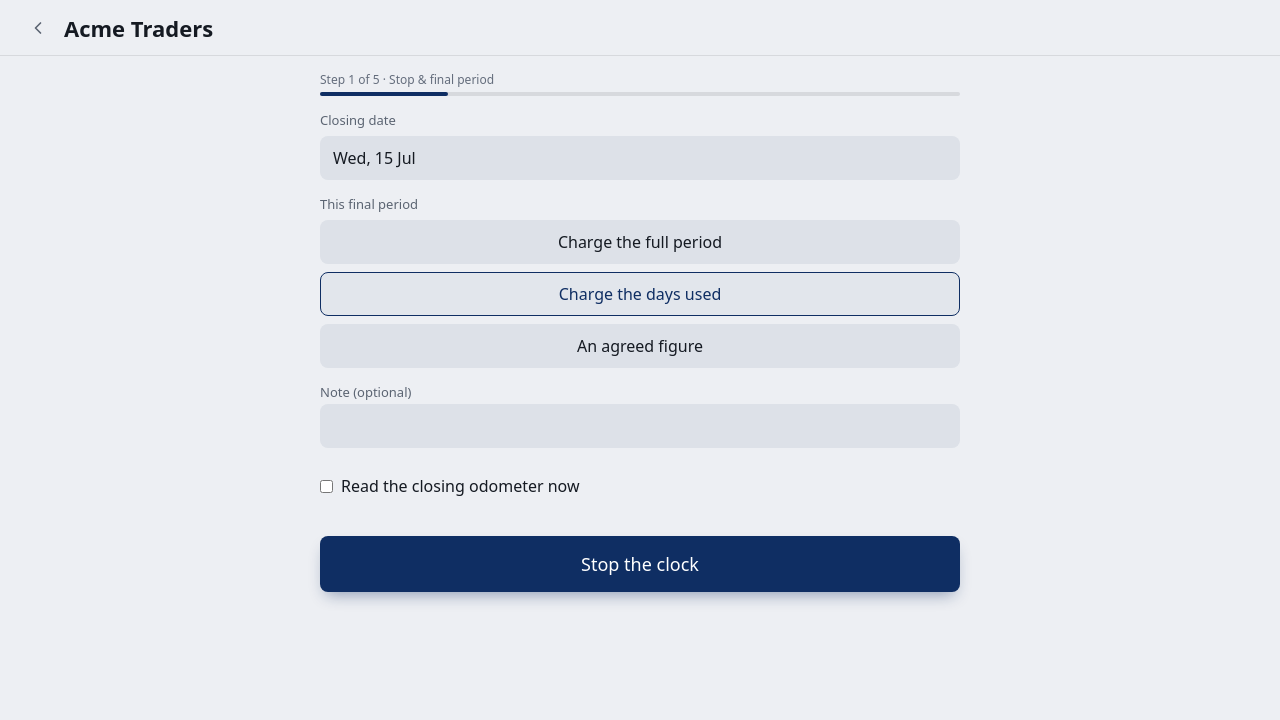
it: GAP-101: a failed closure-summary read shows a failure notice, never an eternal spinner
Click the button "Stop the clock" at x=640, y=564, box [320,536,960,592]
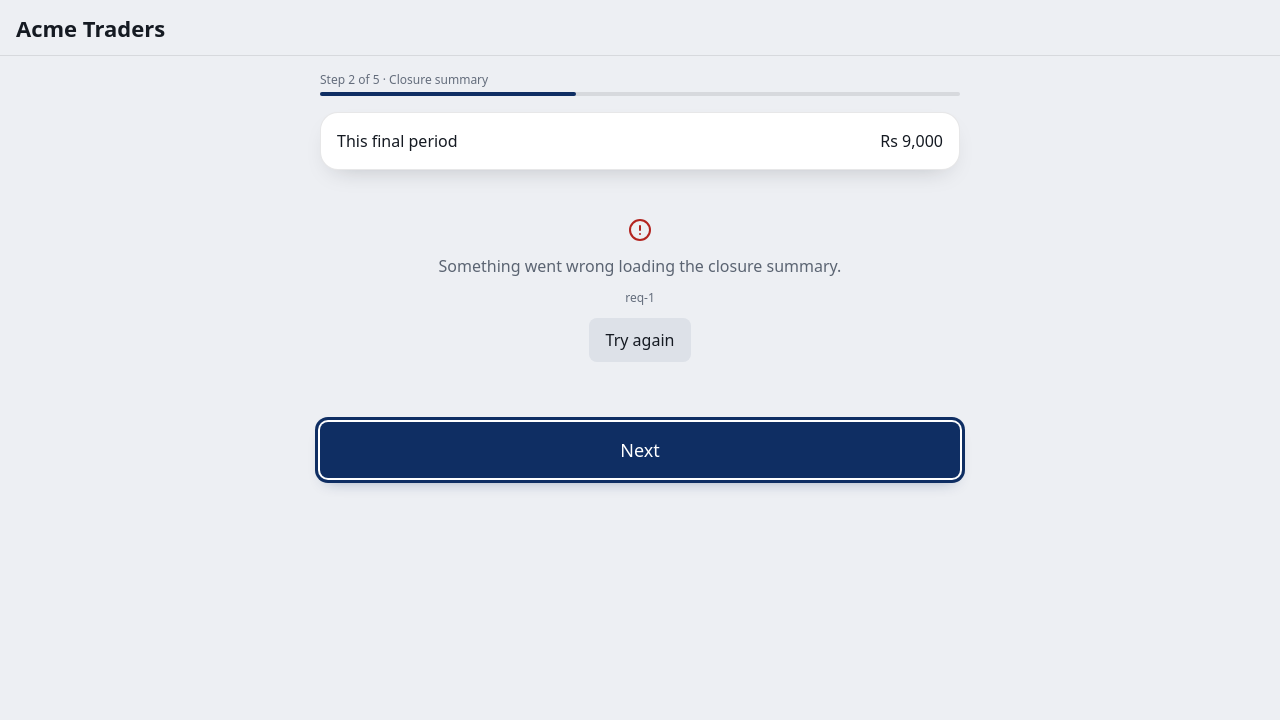
Expected: the text "Something went wrong loading the closure summary." is shown, [439,254,842,278]
